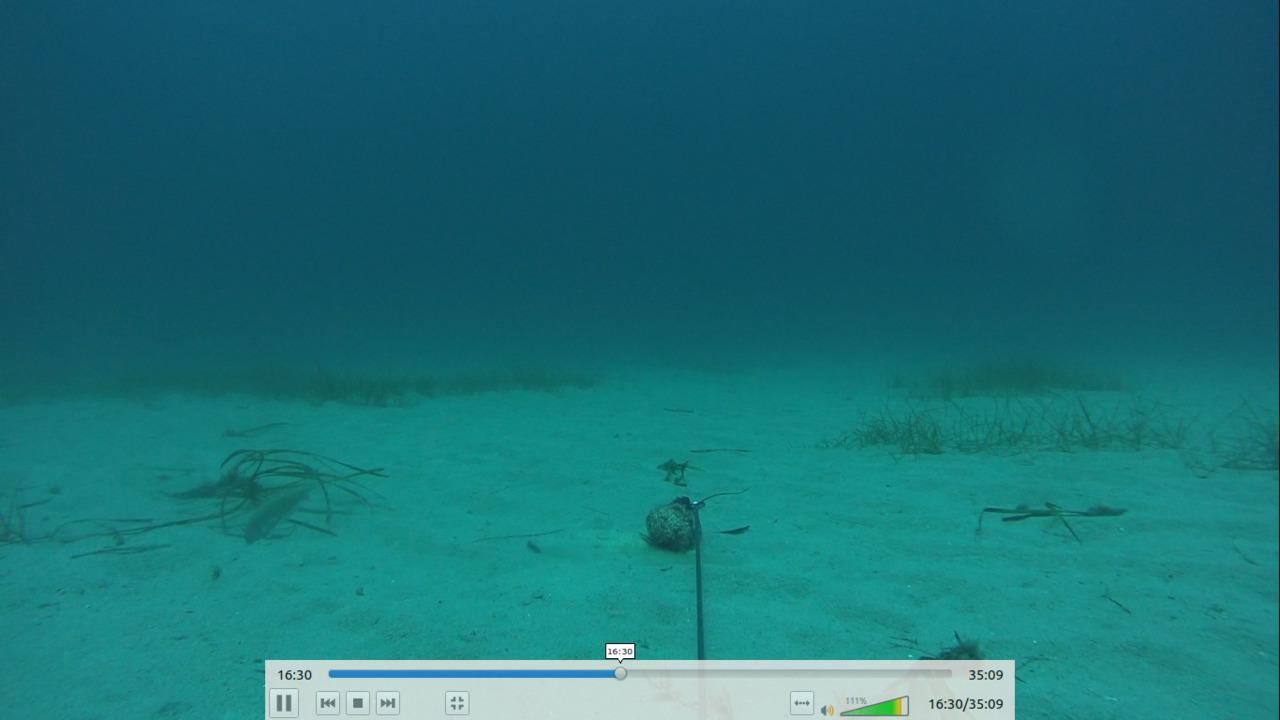raor: (234, 473, 323, 551)
